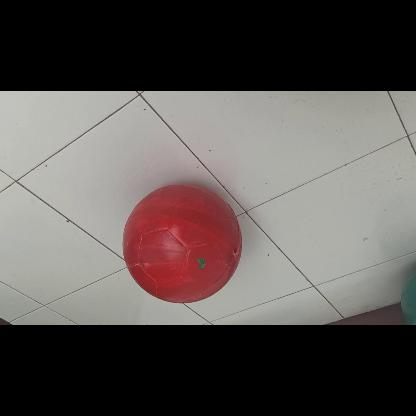red_ball: (121, 185, 241, 305)
